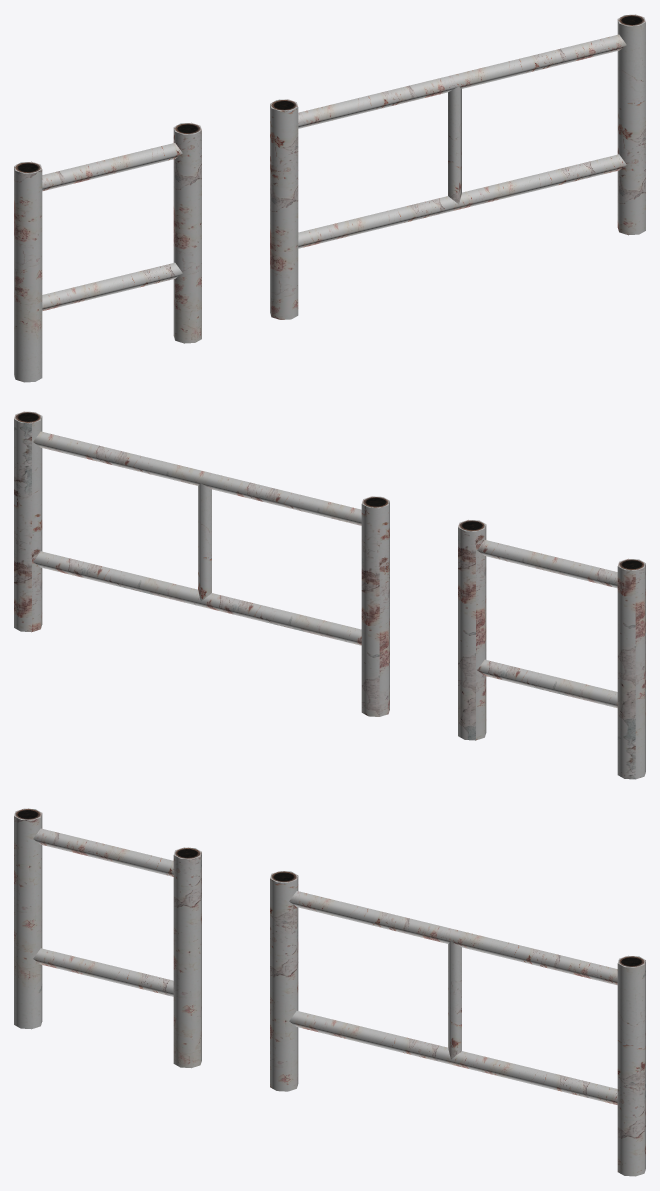
The model's file is fence.glb.
3 views of the same model, one above another, from view 1: azimuth 30°, elevation 25°; view 2: azimuth 150°, elevation 25°; view 3: azimuth 330°, elevation 25° (orthographic).
Visible parts, largest first — view 1: PipeFence1_2m_Pipefence1a_0, PipeFence1_1m_Pipefence1a_0; view 2: PipeFence1_2m_Pipefence1a_0, PipeFence1_1m_Pipefence1a_0; view 3: PipeFence1_2m_Pipefence1a_0, PipeFence1_1m_Pipefence1a_0.
Boxes of the visible parts, <box> form: PipeFence1_2m_Pipefence1a_0: <box>270,14,645,319</box>; PipeFence1_1m_Pipefence1a_0: <box>14,122,201,382</box>; PipeFence1_2m_Pipefence1a_0: <box>14,411,389,716</box>; PipeFence1_1m_Pipefence1a_0: <box>458,519,645,779</box>; PipeFence1_2m_Pipefence1a_0: <box>270,871,645,1176</box>; PipeFence1_1m_Pipefence1a_0: <box>14,808,201,1068</box>.
Bounding box in the file's own units: 3.56 × 1.13 × 0.1437.
Materials: 1 (1 with a texture image).
